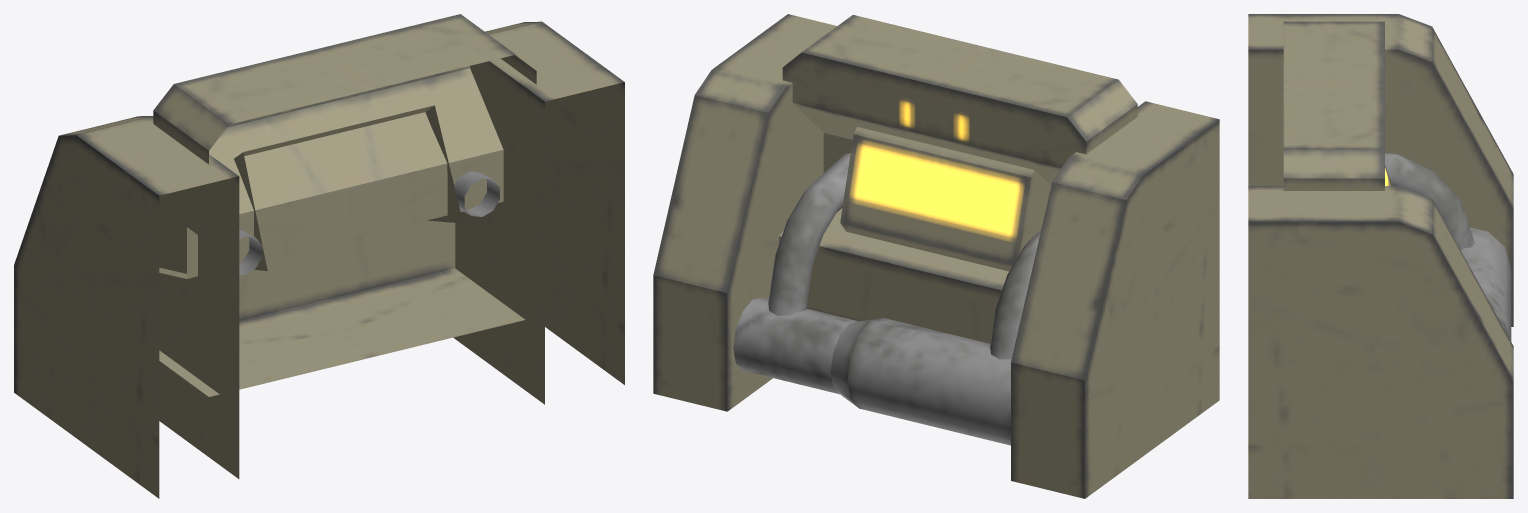
The model's file is Pfb_Soda_Prison.fbx.
The picture shows the model from 3 angles, left to right: view 1: azimuth 30°, elevation 25°; view 2: azimuth 150°, elevation 25°; view 3: azimuth 270°, elevation 25°; orthographic projection. The views are drawn at different scales.
Visible parts, largest first — view 1: jail_part_2; view 2: jail_part_2; view 3: jail_part_2.
Part boxes in pixels (box(x1,y1,x2,y2)): jail_part_2: box(14, 14, 624, 498); jail_part_2: box(653, 14, 1219, 498); jail_part_2: box(1248, 14, 1513, 498).
Bounding box in the file's own units: 2.5 × 1.73 × 1.35.
1 material, 1 textured.
